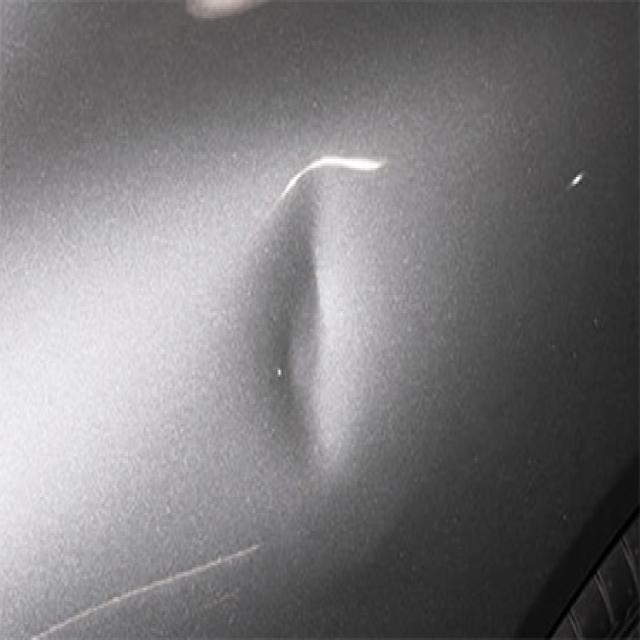Dent: (253, 144, 353, 490)
